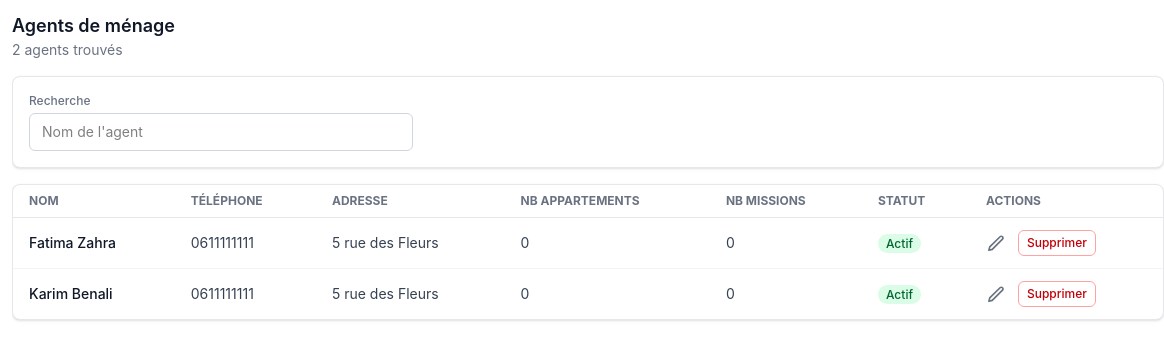
Test: AgentsMenageListeSection › filtre par recherche sur le nom
Expected: the text "2 agents trouvés" is shown, [12,41,123,58]
Type "Karim" into the field labelled "Recherche" at (221,132), box [29,113,413,151]
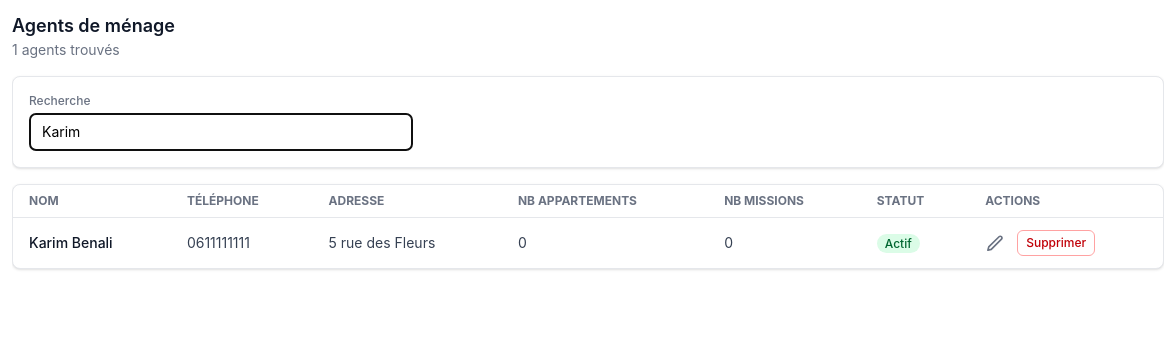
Expected: the text "Karim Benali" is shown, [13,218,171,268]
Now the text "1 agents trouvés" is shown, box [12,41,120,58]
Now the text "Fatima Zahra" is gone
